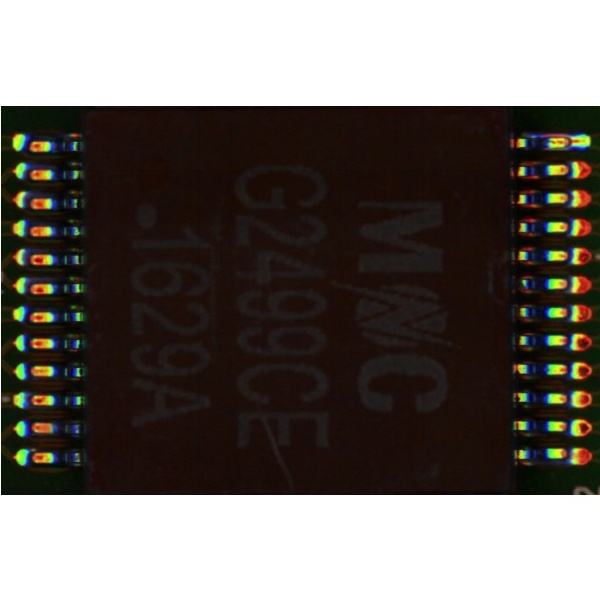Bad_podu: (564, 136, 580, 145)
Bad_qiaojiao: (525, 132, 567, 137)
